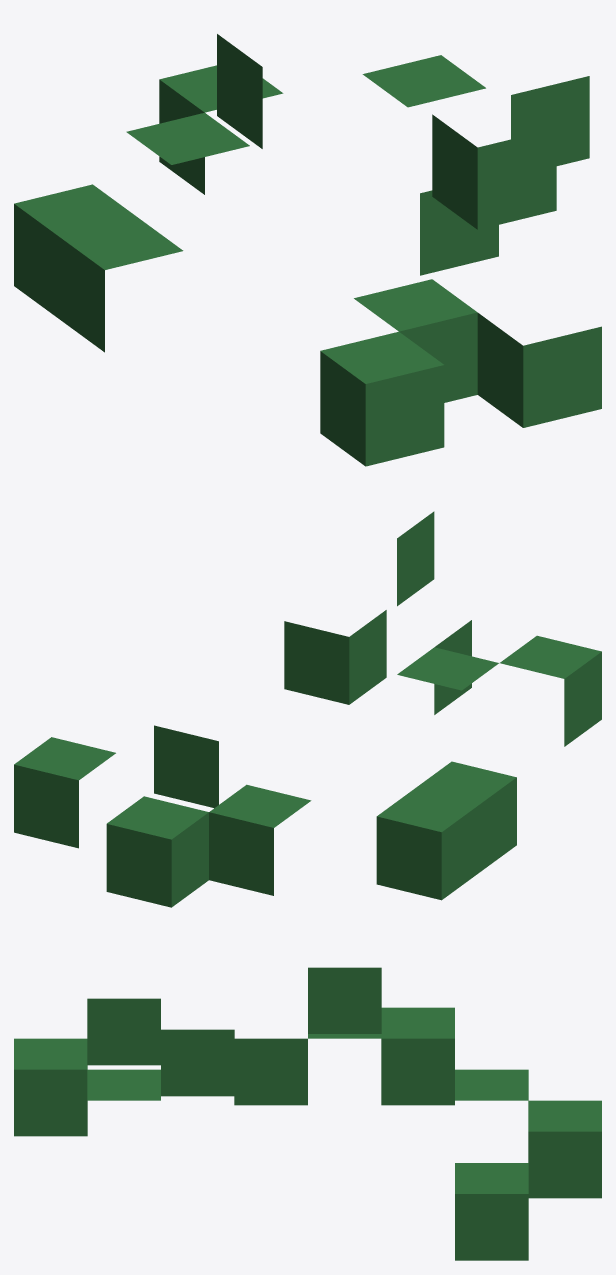
Rendered from tree-pine-0p9-357a41.gltf.
3 renders of one model, top to bottom at view 1: azimuth 30°, elevation 25°; view 2: azimuth 150°, elevation 25°; view 3: azimuth 270°, elevation 25°, orthographic. The views are drawn at different scales.
Parts seen in each view (by area): view 1: tree-pine-0p9-357a41; view 2: tree-pine-0p9-357a41; view 3: tree-pine-0p9-357a41.
Boxes of the visible parts, x1=… form: tree-pine-0p9-357a41: x1=14, y1=34, x2=601, y2=466; tree-pine-0p9-357a41: x1=14, y1=511, x2=601, y2=907; tree-pine-0p9-357a41: x1=14, y1=967, x2=601, y2=1260.
Size of the model in its own units: 6 by 3 by 8.
